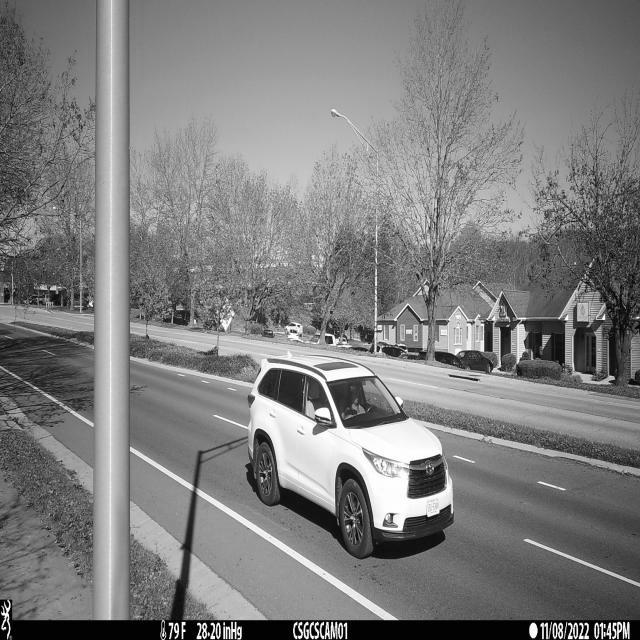SUV: (246, 349, 454, 560)
